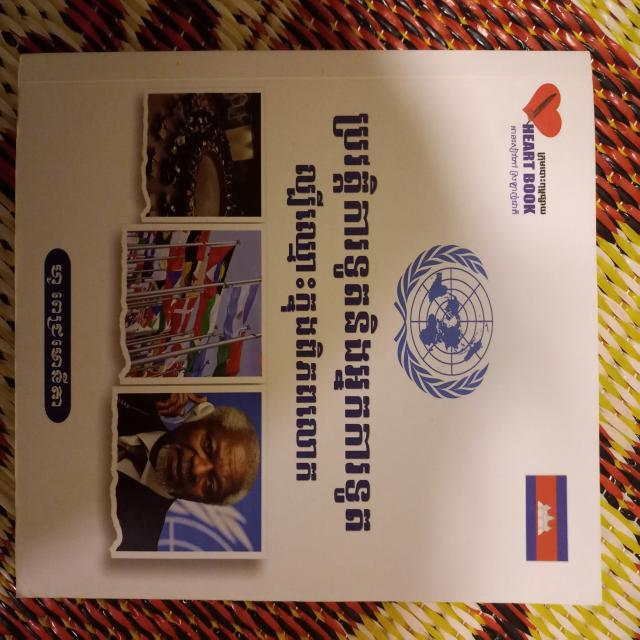1: (45, 259, 69, 410)
Yolov11_80vkh: (328, 108, 383, 536), (280, 150, 328, 490), (506, 122, 522, 220), (535, 148, 550, 221)
